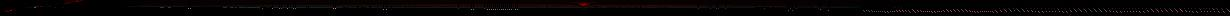Blue cone: (26, 7, 32, 8)
Yellow cone: (574, 2, 593, 6), (812, 6, 817, 8)
